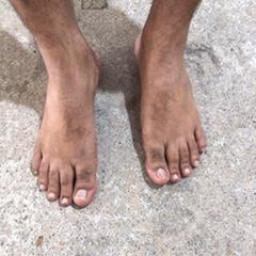Dorsal View -Both Feet-: (20, 21, 219, 221)
